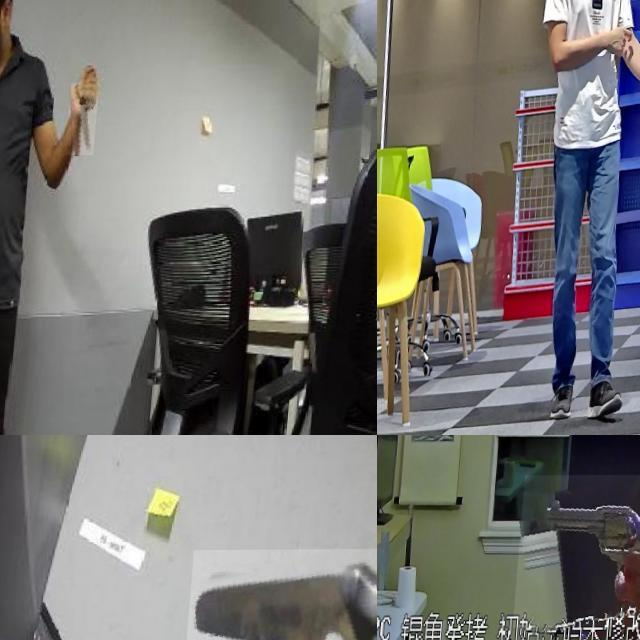-: (191, 549, 377, 640), (70, 84, 103, 156)
gun-knife-thesis - v11 Yolov5 augmented: (523, 474, 640, 627)
